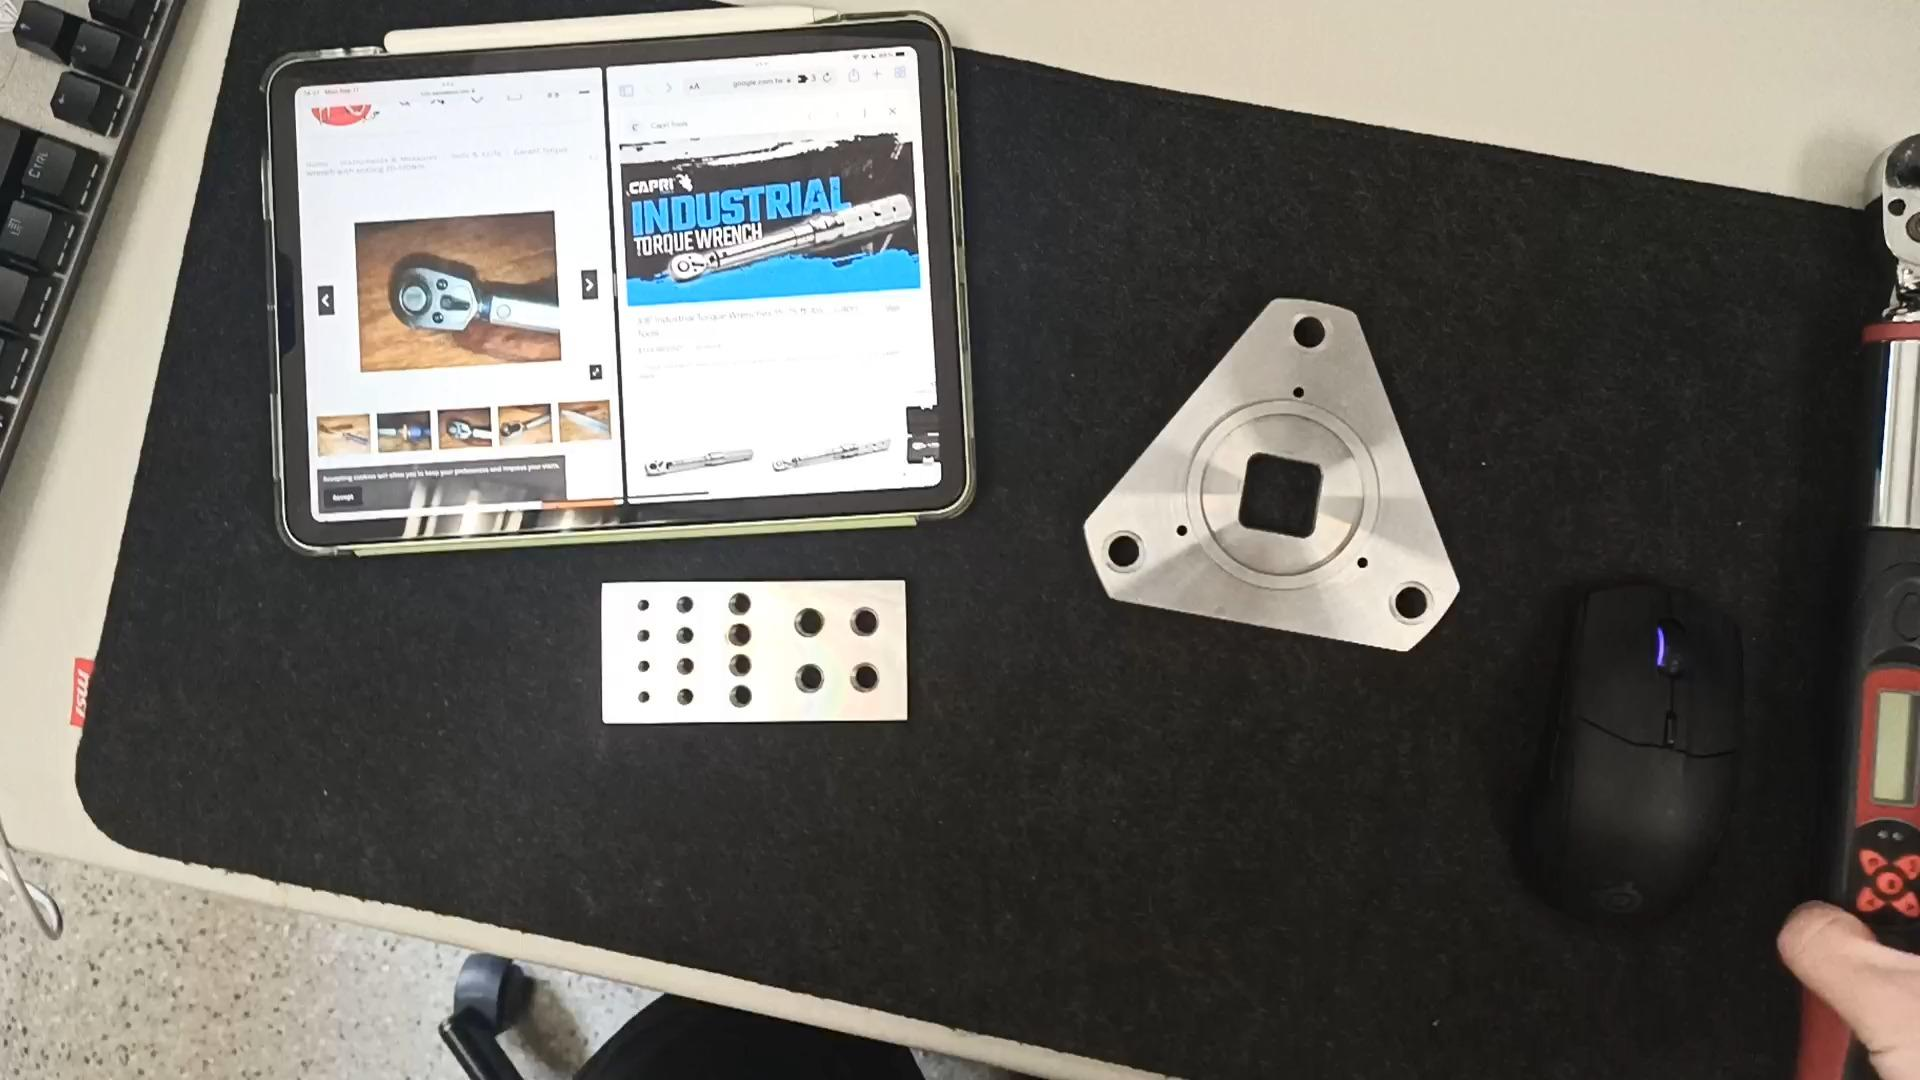Tool: (1859, 137, 1920, 318), (388, 257, 481, 342), (666, 253, 713, 285)
hole: (1364, 578, 1441, 632), (1271, 307, 1337, 355), (1087, 526, 1150, 572), (840, 603, 897, 641), (773, 659, 829, 696), (831, 662, 889, 698), (783, 605, 835, 638), (717, 620, 764, 646), (716, 653, 761, 679), (715, 683, 760, 709), (717, 589, 761, 615), (667, 655, 703, 678), (666, 624, 703, 645), (665, 687, 700, 707), (624, 658, 655, 676), (667, 592, 699, 611), (624, 626, 654, 644), (622, 688, 651, 705), (625, 595, 653, 611)
